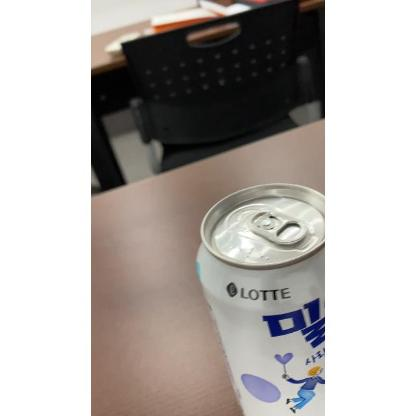Can: (194, 180, 324, 416)
